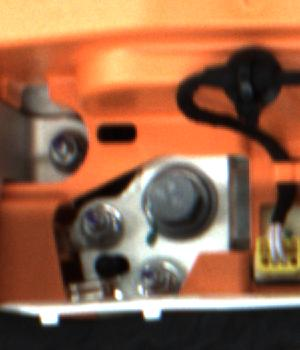nut_b: (138, 160, 221, 244)
screw_s: (73, 198, 122, 248), (137, 253, 180, 298), (48, 130, 84, 171)
